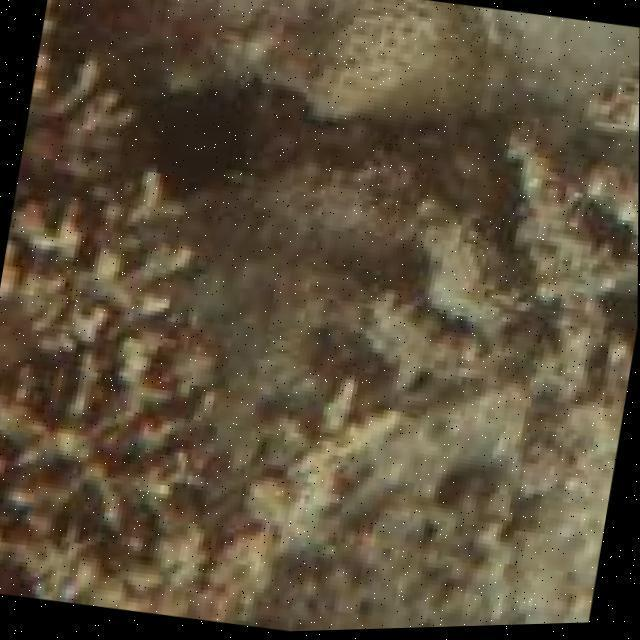Healthy Coral: (271, 0, 640, 146)
